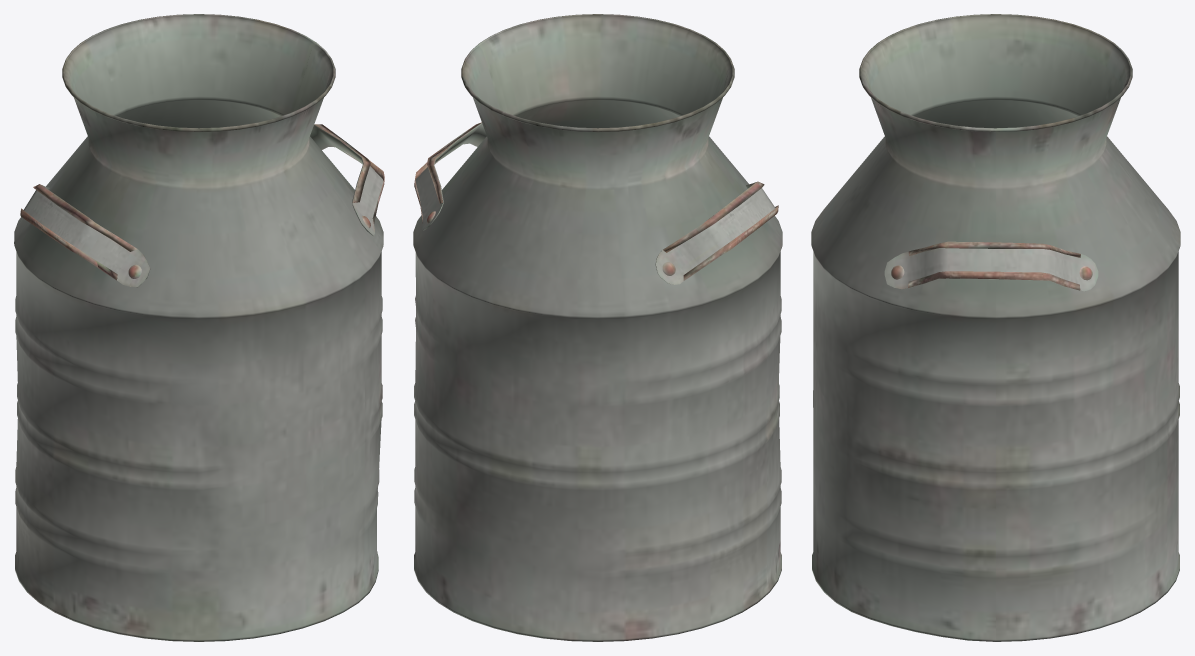
File: metal_jug.glb
3 views of the same model, side by side, from view 1: azimuth 30°, elevation 25°; view 2: azimuth 150°, elevation 25°; view 3: azimuth 270°, elevation 25° (orthographic).
Visible parts, largest first — view 1: metal_jug; view 2: metal_jug; view 3: metal_jug.
Part boxes in pixels (x1=…): metal_jug: x1=14, y1=14, x2=384, y2=641; metal_jug: x1=413, y1=14, x2=782, y2=641; metal_jug: x1=811, y1=14, x2=1180, y2=641.
Bounding box in the file's own units: 0.1967 × 0.2875 × 0.1954.
1 material, 1 textured.
